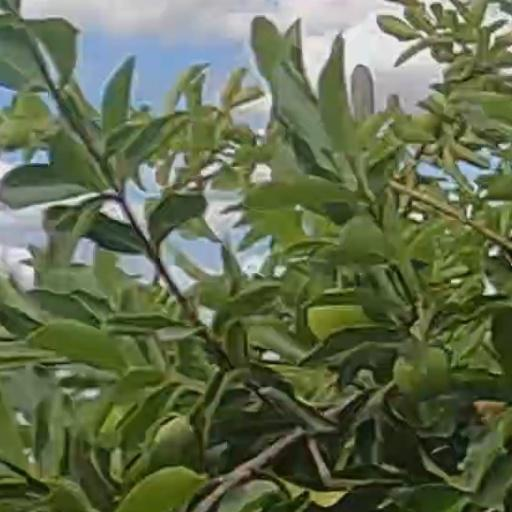acerola_verde: (397, 352, 447, 393)
